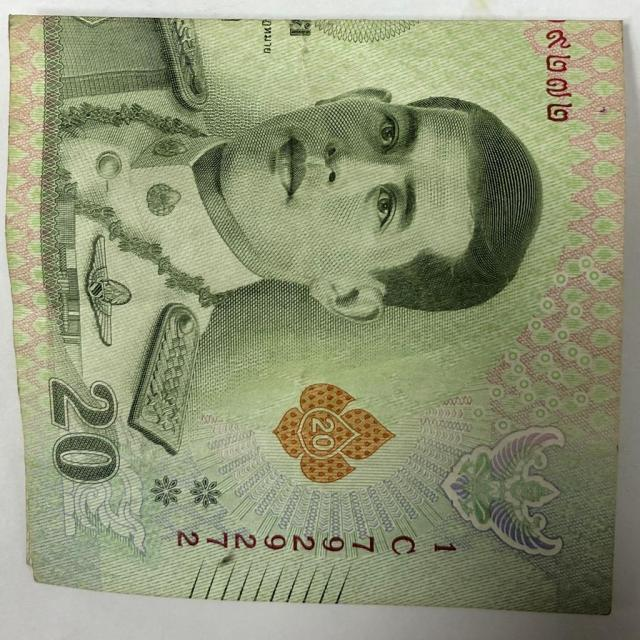THAI20: (8, 15, 624, 615)
